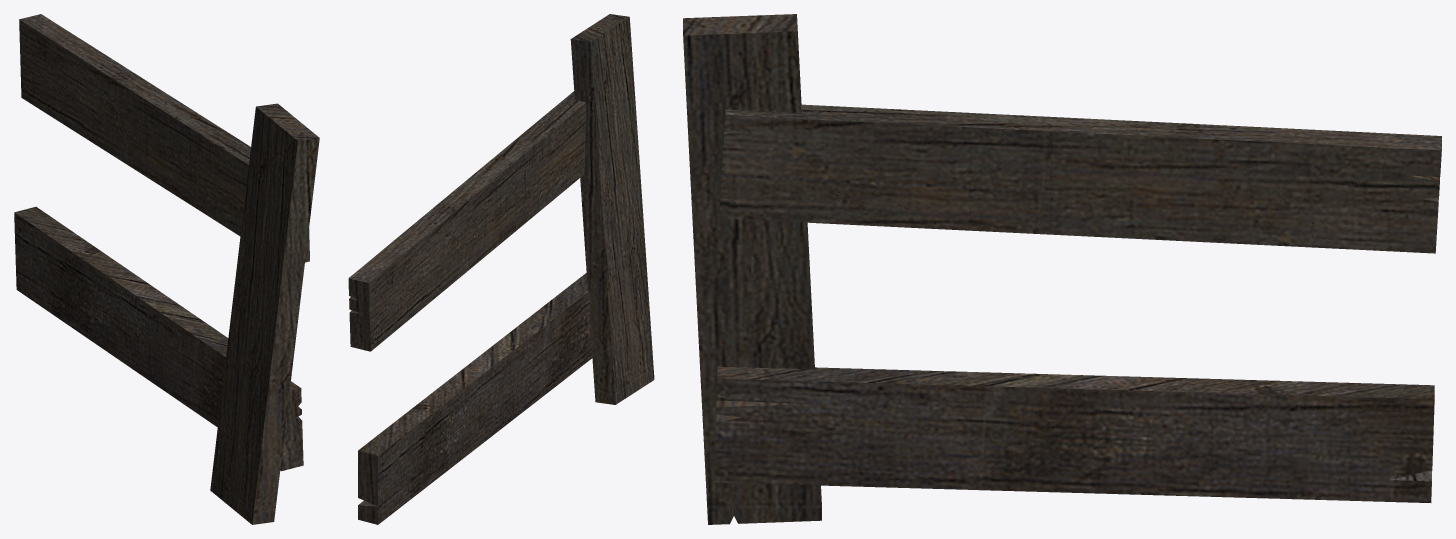
The model's file is Fence.fbx.
The picture shows the model from 3 angles, left to right: view 1: azimuth 30°, elevation 25°; view 2: azimuth 150°, elevation 25°; view 3: azimuth 270°, elevation 25°; orthographic projection. The views are drawn at different scales.
Parts seen in each view (by area): view 1: Model; view 2: Model; view 3: Model.
Boxes of the visible parts, bbox=[...] form: Model: bbox=[14, 14, 319, 524]; Model: bbox=[348, 14, 654, 524]; Model: bbox=[683, 14, 1441, 524].
Bounding box in the file's own units: 3.32 × 19.86 × 26.22.
